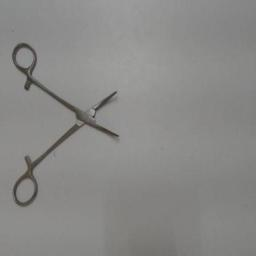Crile Artery Forceps: (12, 38, 130, 210)
